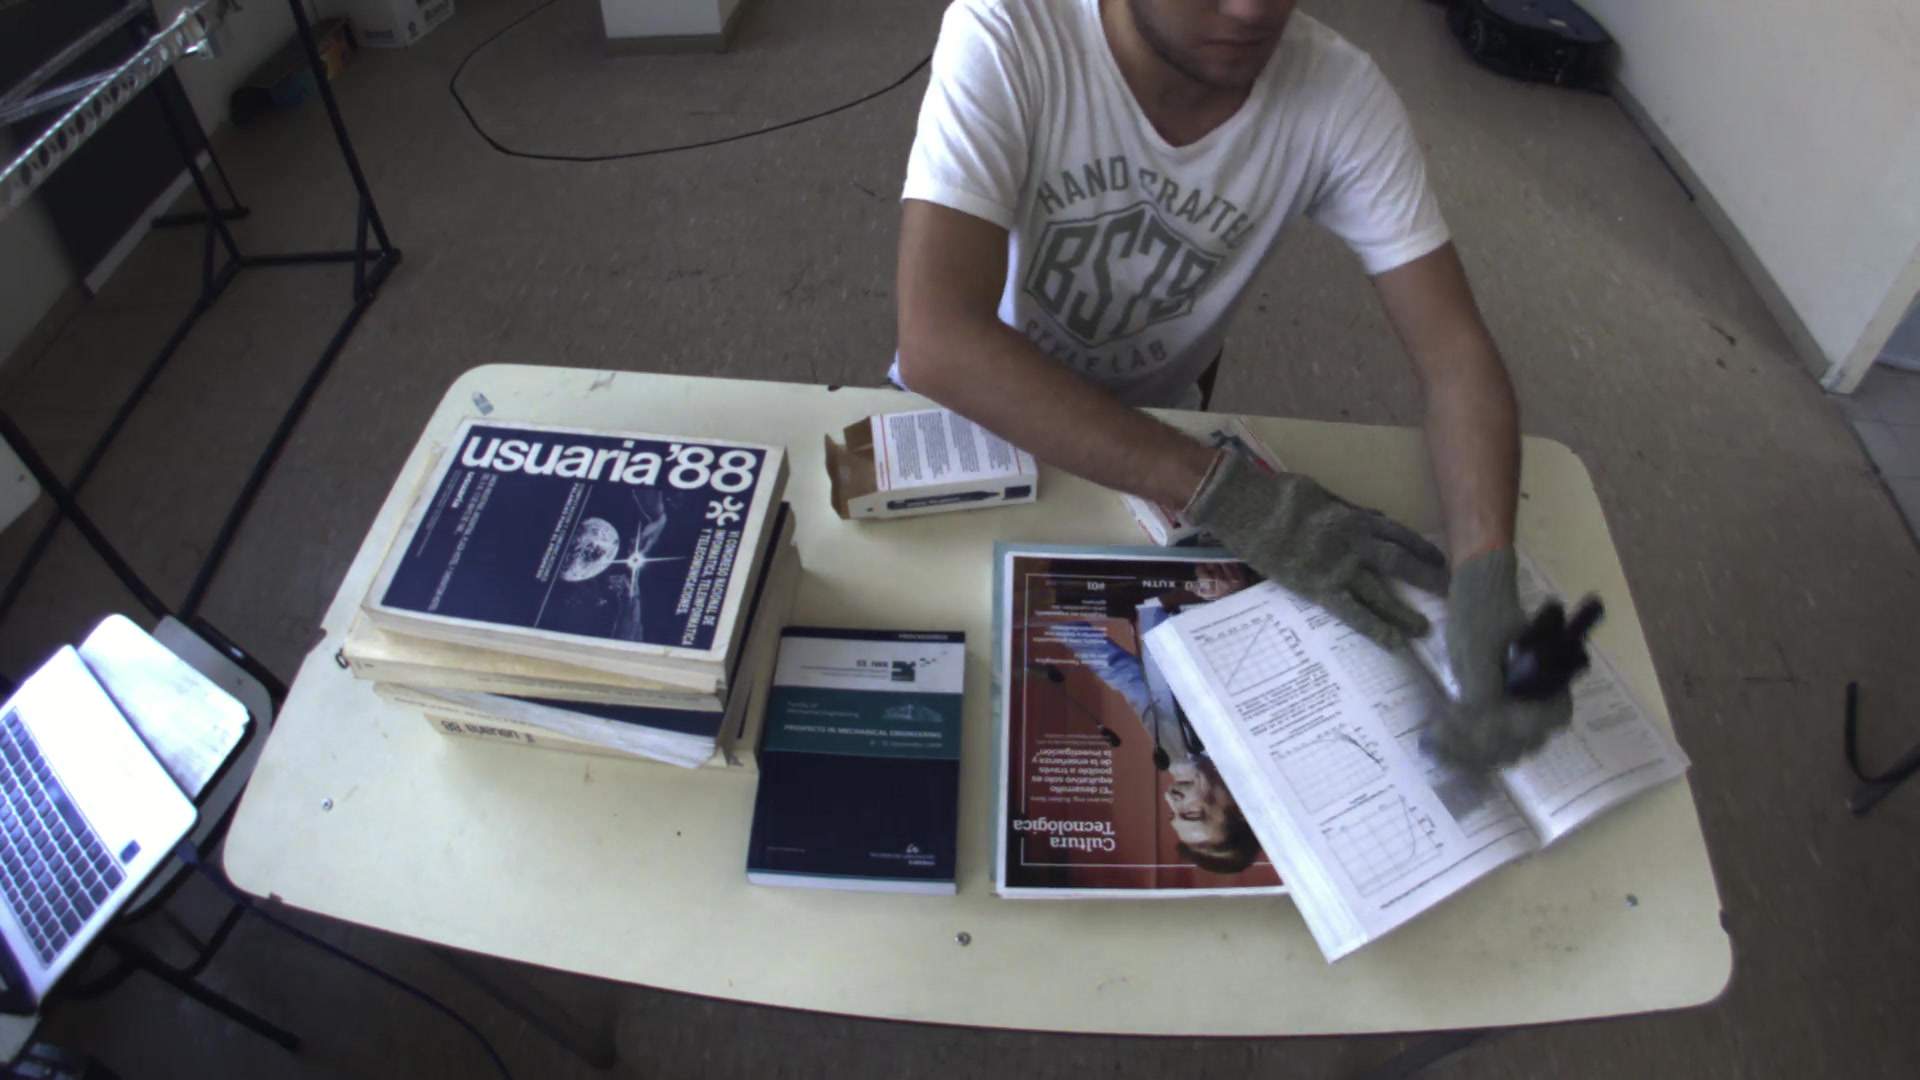hand: (1164, 443, 1462, 642), (1439, 521, 1576, 787)
